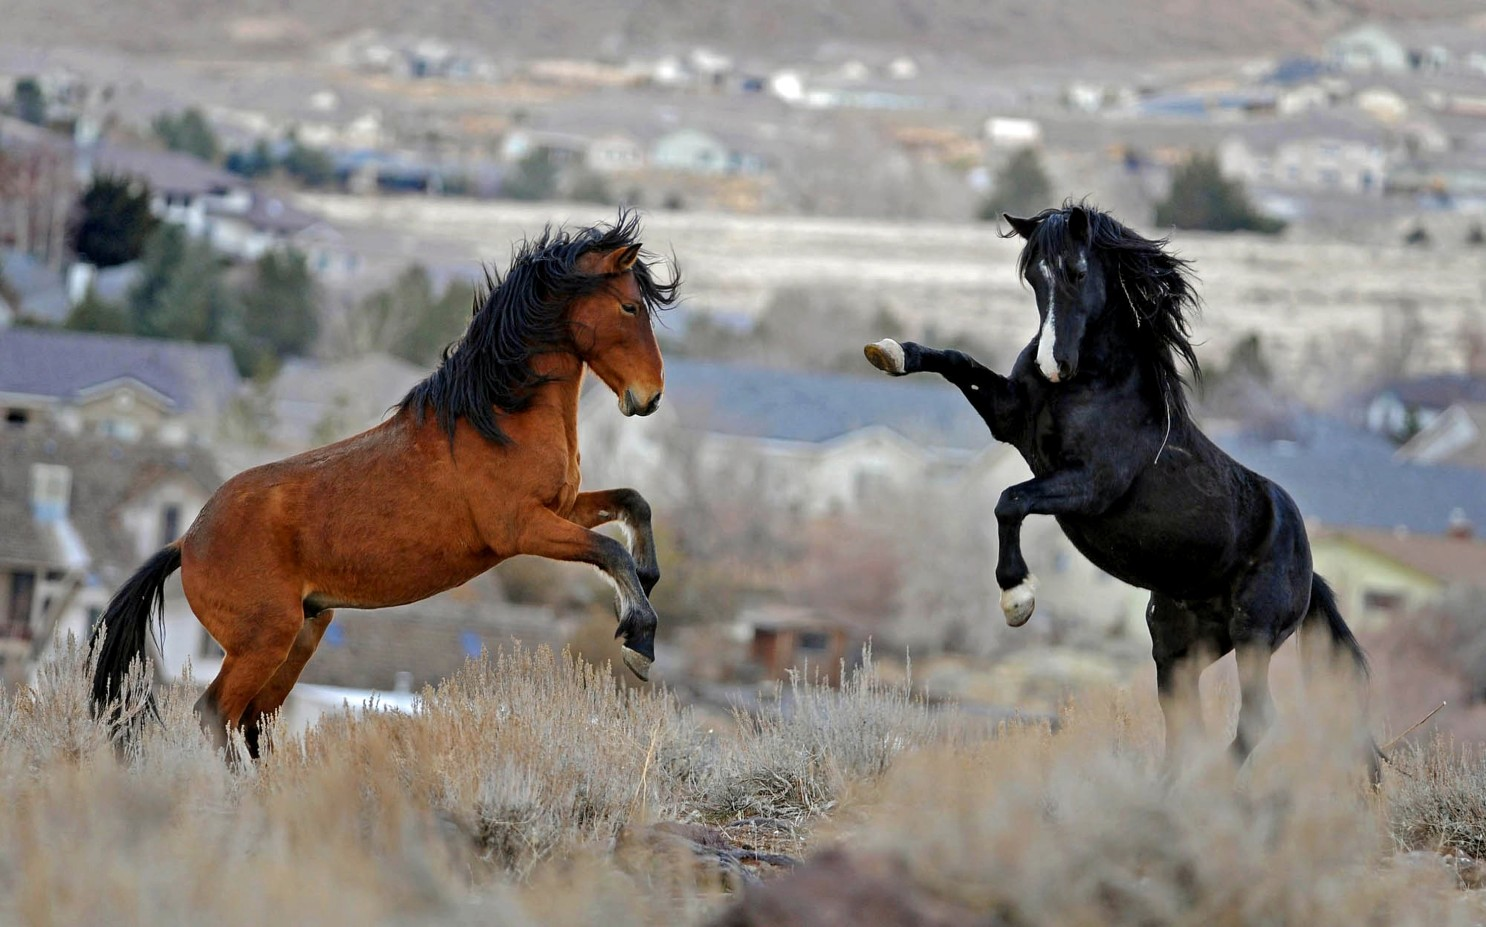Horse: (86, 209, 730, 766), (866, 185, 1419, 807)
